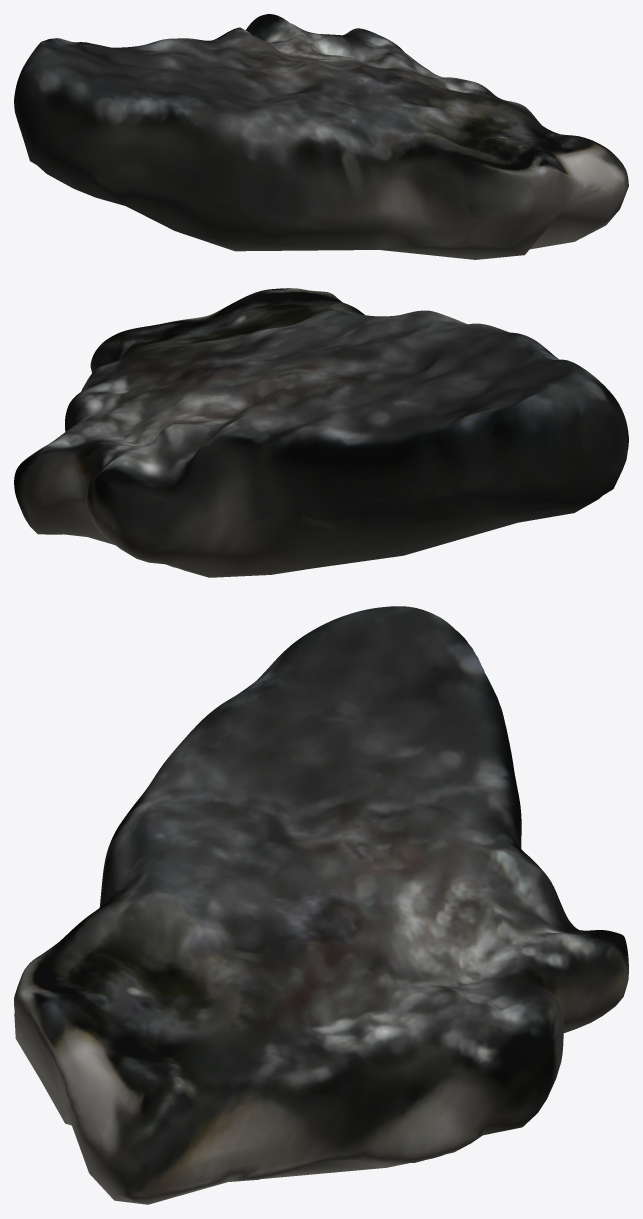
3 views of the same model, one above another, from view 1: azimuth 30°, elevation 25°; view 2: azimuth 150°, elevation 25°; view 3: azimuth 270°, elevation 25° (orthographic). The views are drawn at different scales.
Size of the model in its own units: 0.6343 by 0.2696 by 0.4723.
1 material, 1 textured.
